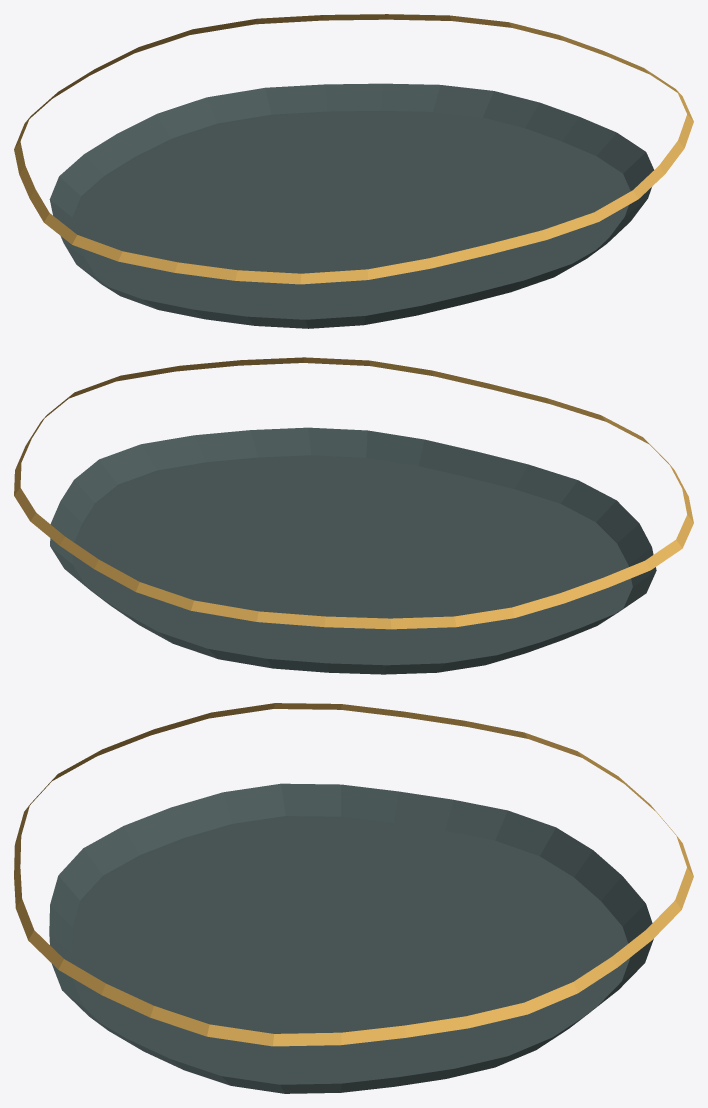
The model's file is hub_rim.obj.
3 renders of one model, top to bottom at view 1: azimuth 30°, elevation 25°; view 2: azimuth 150°, elevation 25°; view 3: azimuth 270°, elevation 25°, orthographic. The views are drawn at different scales.
Visible parts, largest first — view 1: hub_rim; view 2: hub_rim; view 3: hub_rim.
Boxes of the visible parts, left/top/right/bottom form: hub_rim: left=14, top=14, right=693, bottom=328; hub_rim: left=14, top=357, right=693, bottom=674; hub_rim: left=14, top=703, right=693, bottom=1093.
Size of the model in its own units: 57.5 by 6.88 by 48.96.
